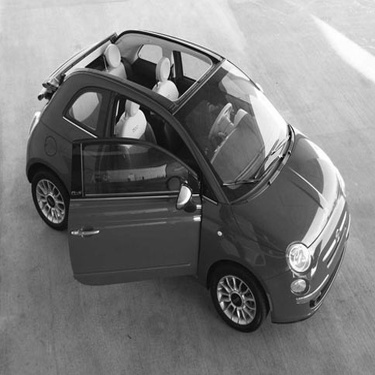car: (13, 21, 357, 338)
